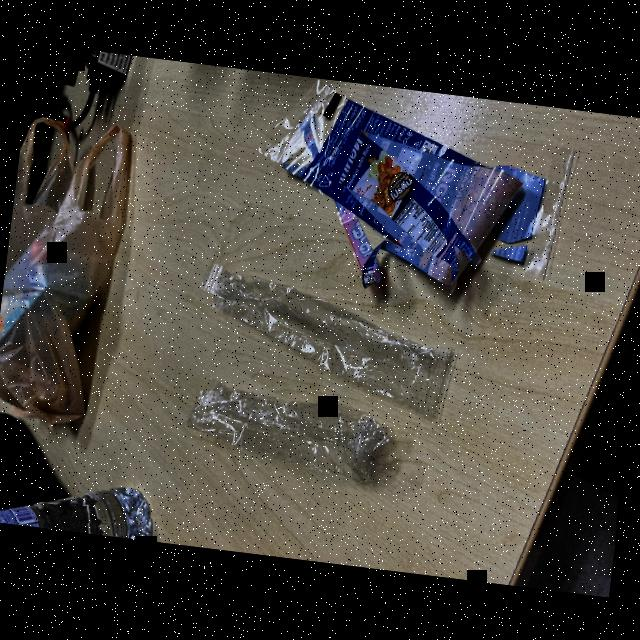scrap_plastic: (244, 72, 562, 314), (182, 254, 458, 423), (177, 365, 412, 490)
